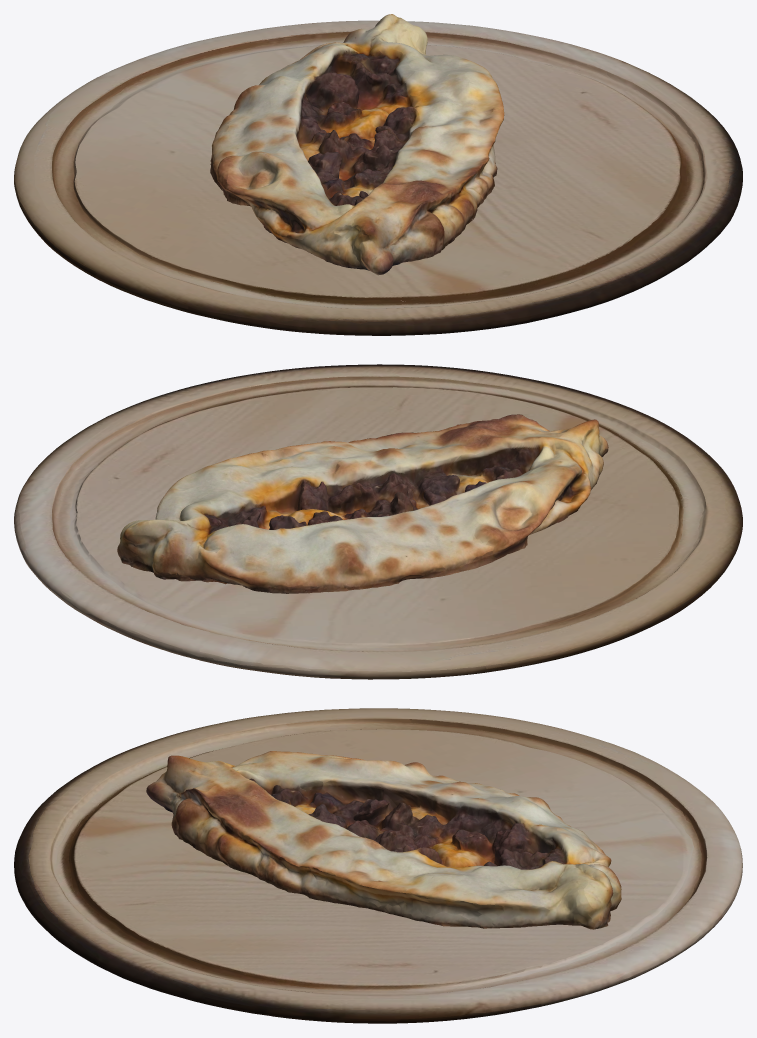
Rendered from pirashki.01.glb.
3 views of the same model, one above another, from view 1: azimuth 30°, elevation 25°; view 2: azimuth 150°, elevation 25°; view 3: azimuth 270°, elevation 25° (orthographic).
Visible parts, largest first — view 1: /Root/Scenes/Scene/Object_41/Object_43/Object_44/Submesh_0, /Root/Scenes/Scene/Object_41/Object_42/Submesh_0; view 2: /Root/Scenes/Scene/Object_41/Object_43/Object_44/Submesh_0, /Root/Scenes/Scene/Object_41/Object_42/Submesh_0; view 3: /Root/Scenes/Scene/Object_41/Object_43/Object_44/Submesh_0, /Root/Scenes/Scene/Object_41/Object_42/Submesh_0.
Part boxes in pixels (bbox=[...]): /Root/Scenes/Scene/Object_41/Object_43/Object_44/Submesh_0: bbox=[14, 20, 742, 335]; /Root/Scenes/Scene/Object_41/Object_42/Submesh_0: bbox=[210, 14, 504, 275]; /Root/Scenes/Scene/Object_41/Object_43/Object_44/Submesh_0: bbox=[14, 364, 742, 679]; /Root/Scenes/Scene/Object_41/Object_42/Submesh_0: bbox=[117, 414, 608, 593]; /Root/Scenes/Scene/Object_41/Object_43/Object_44/Submesh_0: bbox=[14, 708, 742, 1023]; /Root/Scenes/Scene/Object_41/Object_42/Submesh_0: bbox=[146, 751, 621, 929].
Bounding box in the file's own units: 0.4027 × 0.0387 × 0.4026.
Materials: 2 (2 with a texture image).
